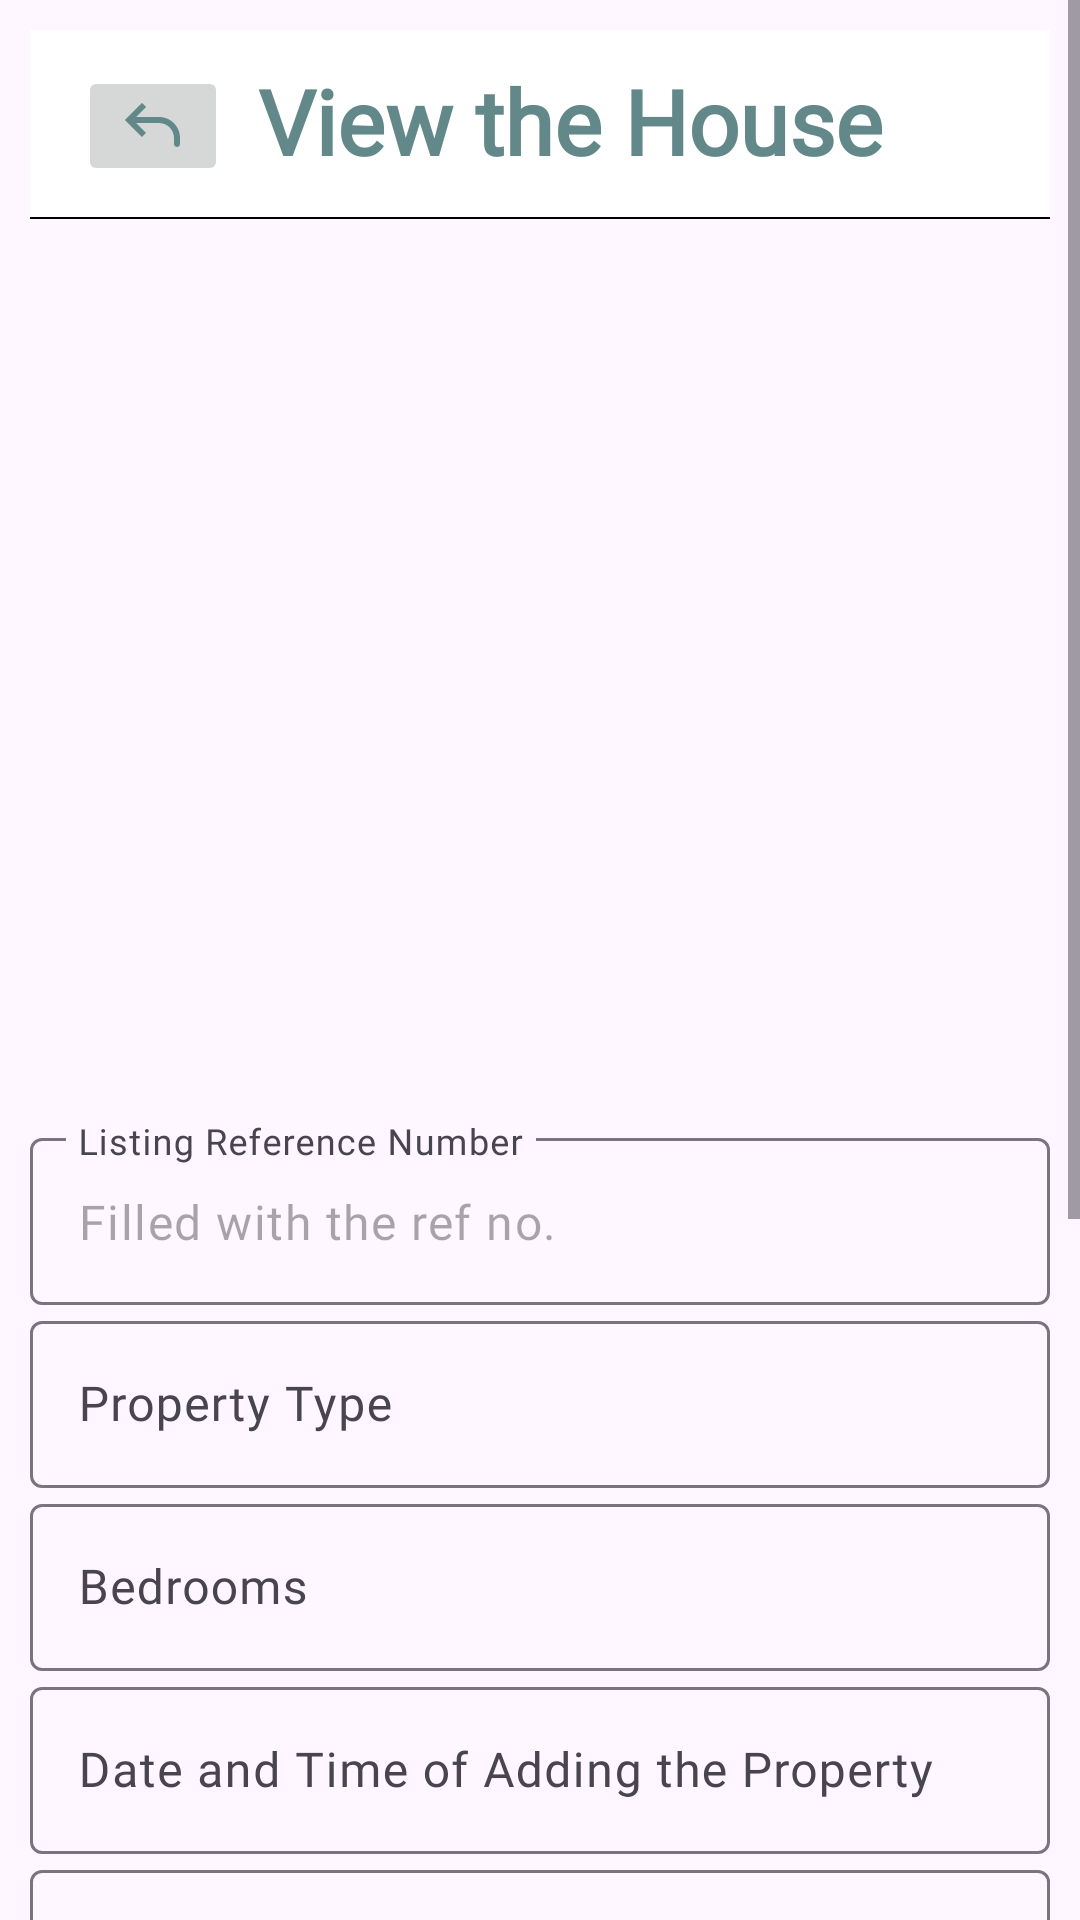

Screen size 1080*1920. Icon name, then its box in pixels as bbox=[x1, y1, x2, y2]:
back: bbox=[90, 84, 216, 168]
